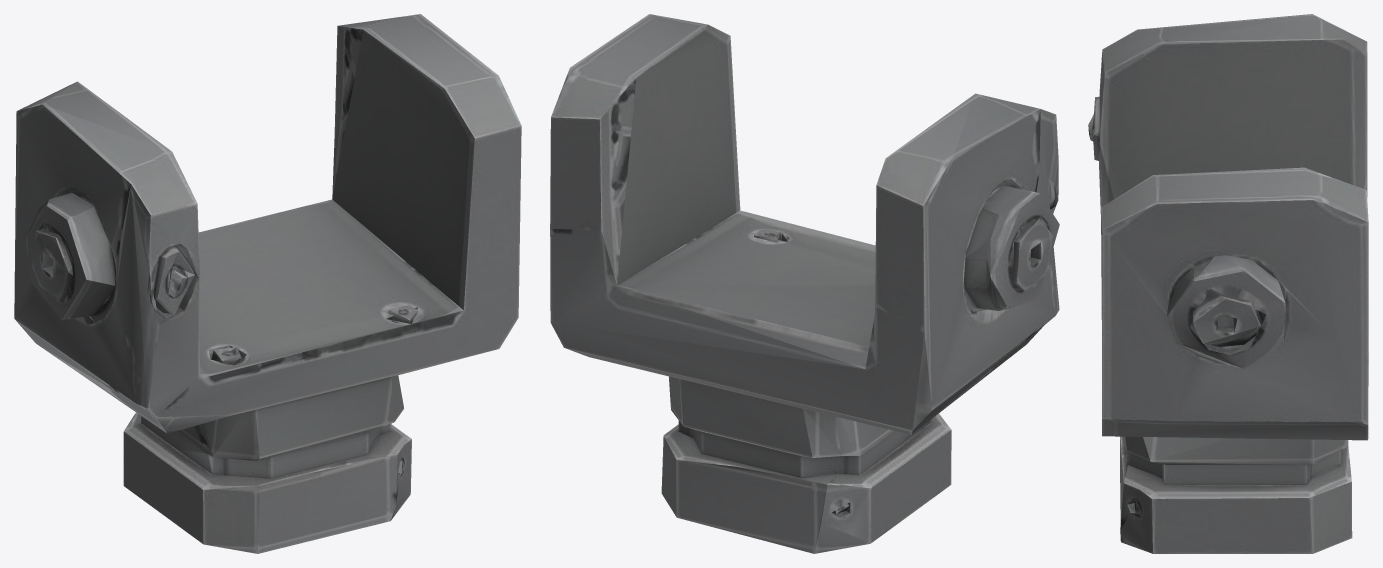
The model's file is shared_flak_tower_compact_option__radar_azimuth_yoke_lod1.glb.
The picture shows the model from 3 angles, left to right: view 1: azimuth 30°, elevation 25°; view 2: azimuth 150°, elevation 25°; view 3: azimuth 270°, elevation 25°; orthographic projection.
Visible parts, largest first — view 1: mesh_node; view 2: mesh_node; view 3: mesh_node.
Boxes of the visible parts, <box> form: mesh_node: <box>14,14,521,553</box>; mesh_node: <box>550,14,1059,553</box>; mesh_node: <box>1088,14,1368,553</box>.
Size of the model in its own units: 0.5898 by 0.5133 by 0.3209.
Materials: 1 (1 with a texture image).
